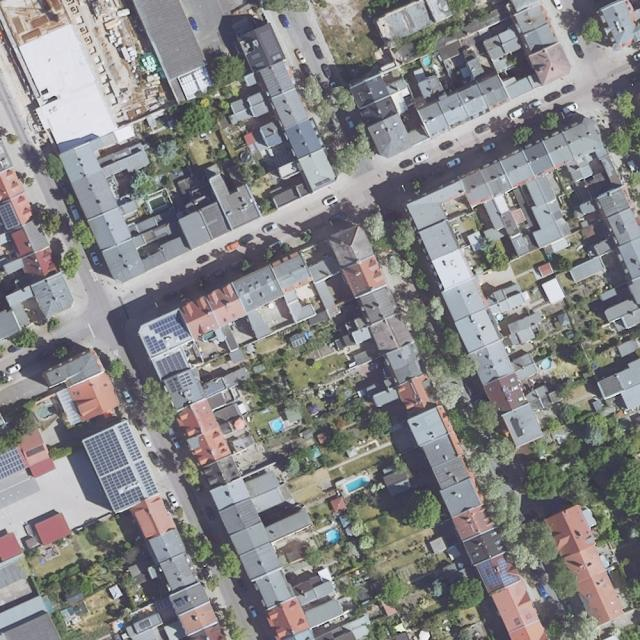PV: (84, 428, 129, 477), (100, 467, 143, 514), (148, 312, 189, 339), (117, 422, 143, 461), (132, 460, 158, 498), (155, 351, 188, 379), (0, 448, 26, 479), (476, 559, 502, 587), (0, 202, 21, 230), (143, 335, 167, 356), (499, 571, 519, 585), (167, 377, 182, 394), (180, 372, 194, 388), (138, 617, 153, 630), (174, 598, 187, 608), (498, 558, 508, 569)
